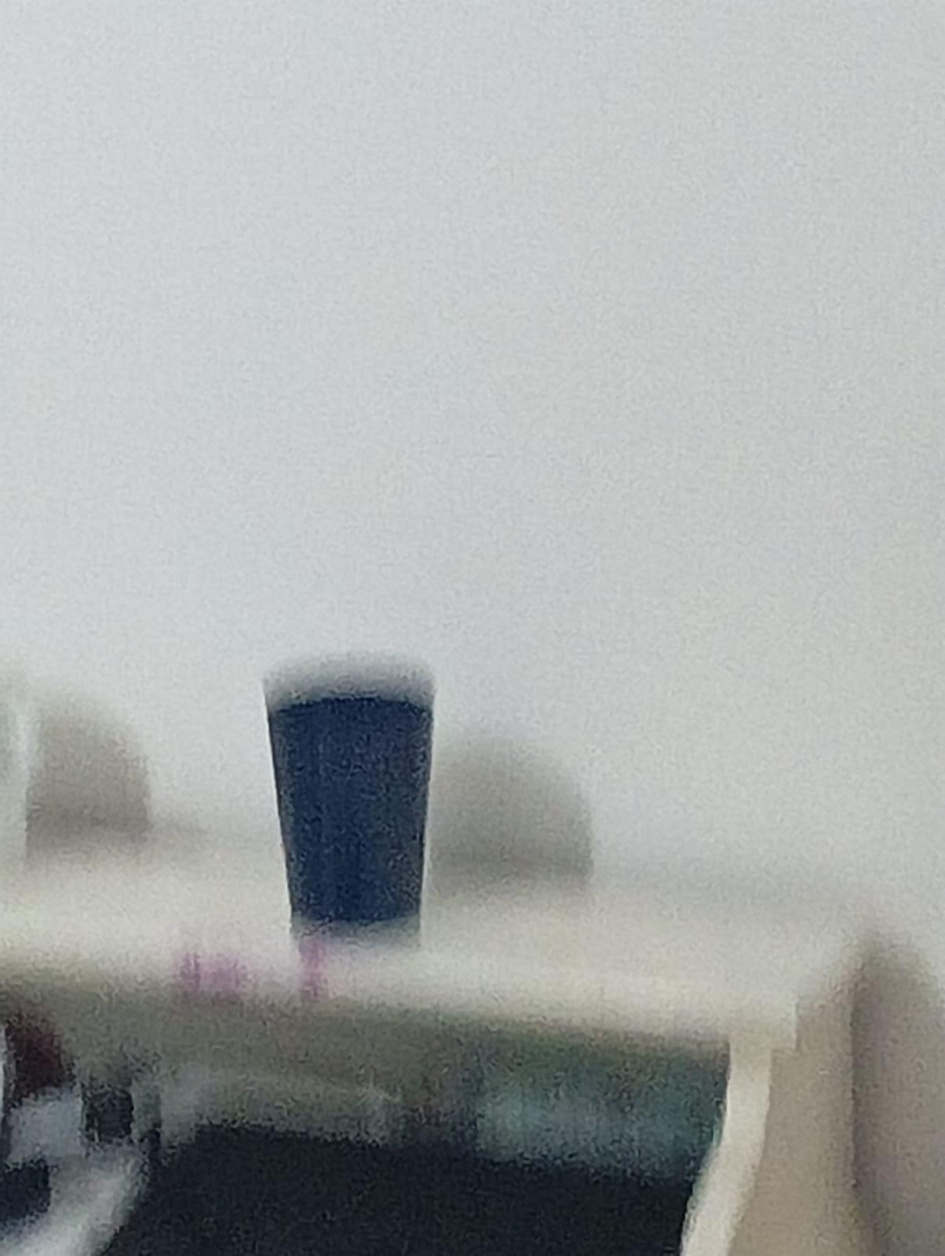cup: (265, 658, 434, 931), (0, 683, 38, 883)
